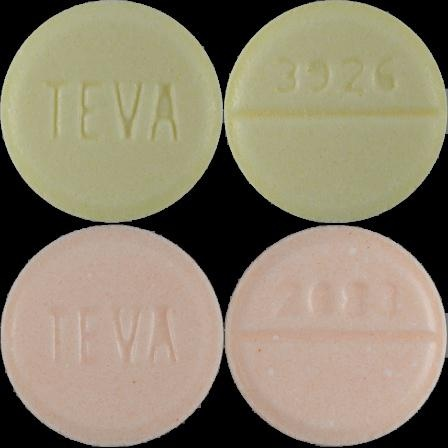55154-6342: (0, 0, 224, 224)
